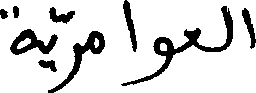ا: (121, 0, 136, 63), (240, 5, 255, 48)
ة: (0, 4, 33, 56)
ر: (59, 31, 82, 90)
ع: (184, 25, 200, 49)
ل: (220, 4, 232, 53)
م: (88, 29, 104, 55)
و: (134, 33, 170, 85)
ي: (38, 28, 58, 72)
